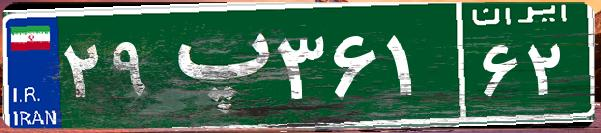1: (385, 28, 445, 110)
2: (57, 26, 110, 107), (525, 38, 570, 115)
3: (273, 28, 330, 110)
6: (330, 28, 385, 110), (475, 38, 525, 113)
9: (110, 28, 158, 105)
پ: (158, 15, 273, 115)
